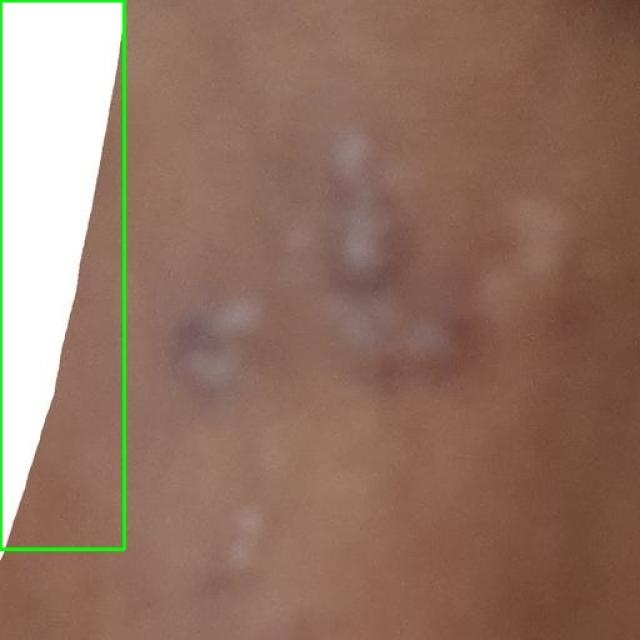Contact Dermatitis: (0, 0, 125, 550)
